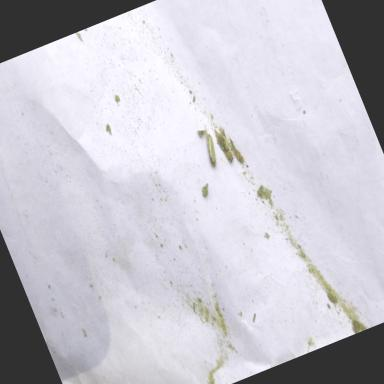pbw: (196, 122, 222, 166), (212, 124, 237, 166)
